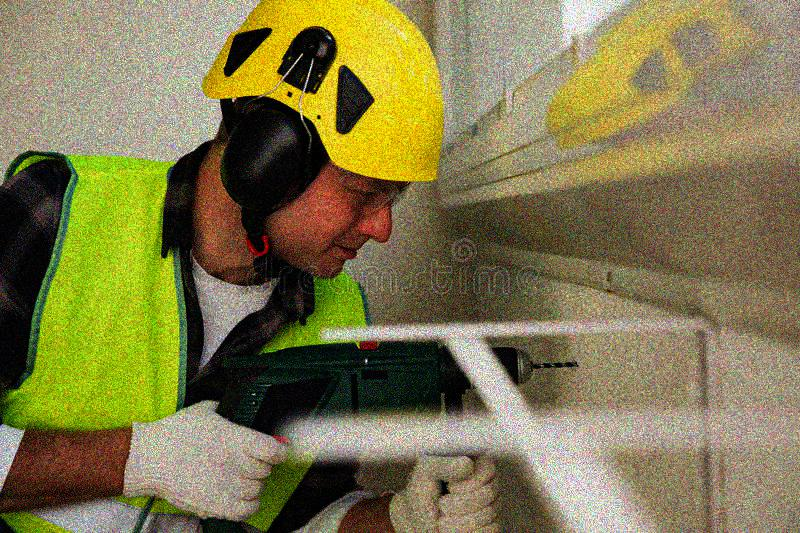helmet: (199, 1, 448, 289)
